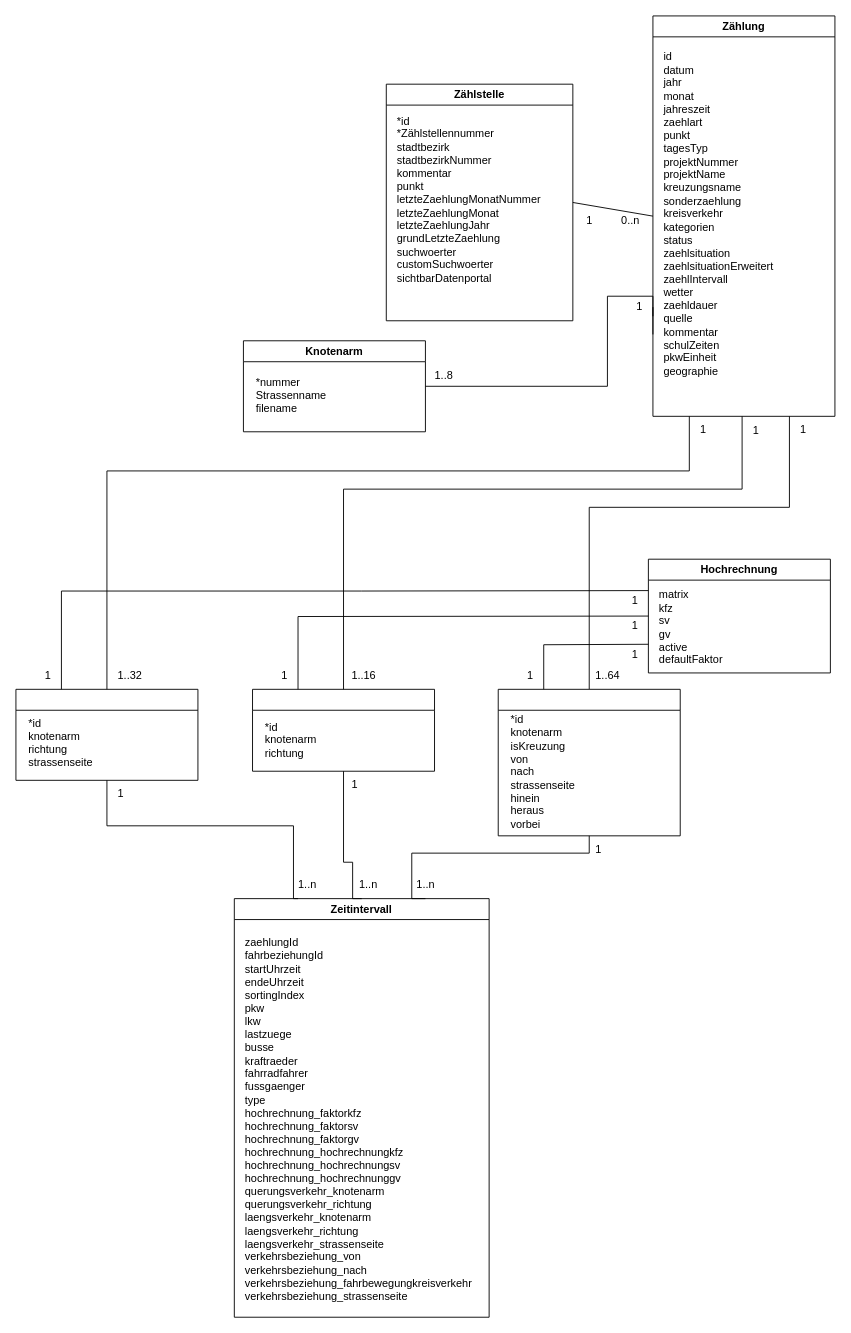
This 851x1333 diagram has some shape labels left out. The box of each missing label's shape, as (x1, y1, x2, y2) in pixels:
Laengsverkehr: (15, 688, 198, 780)
Querungsverkehr: (252, 688, 435, 771)
Verkehrsbeziehung: (497, 688, 680, 836)
